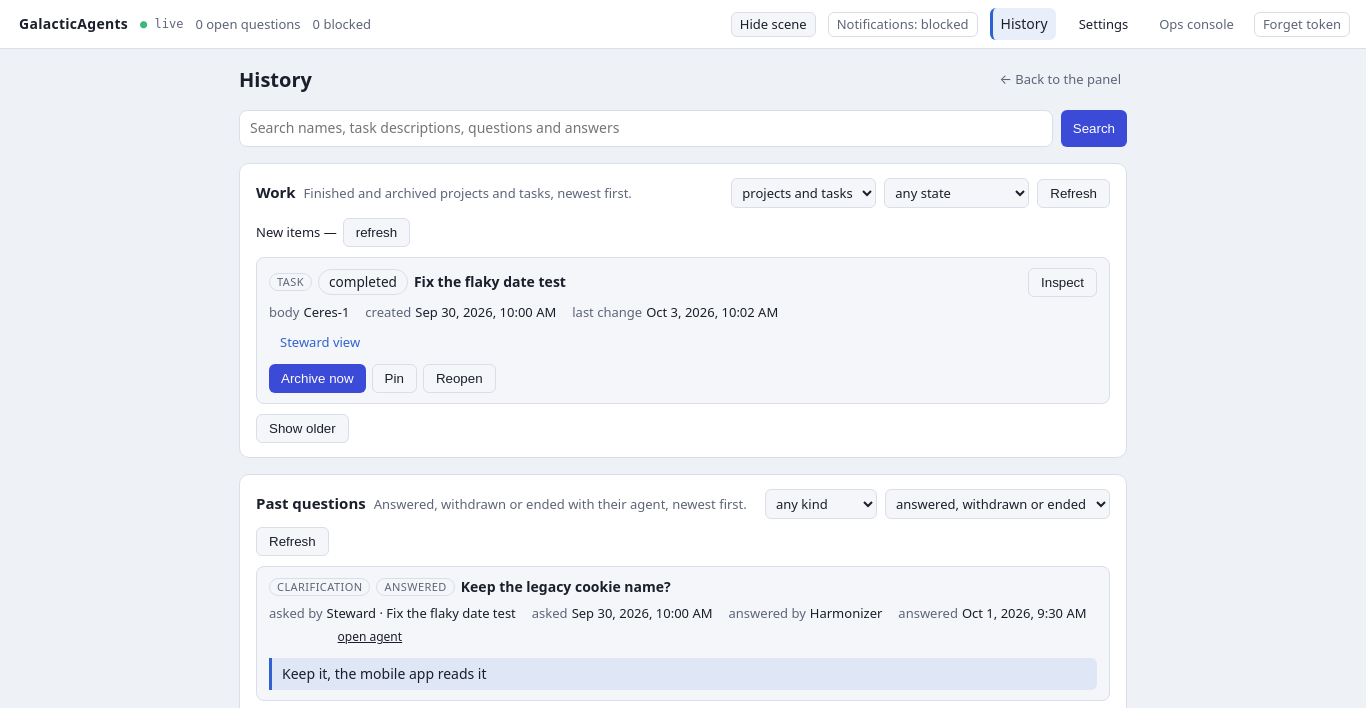
Scenario: history view (P25-10) › offers a refresh when work finishes, and keeps the rows on screen while it reads
Check: the message shows "New items", box [256, 223, 337, 241]
What coordinates should you click on to do the following:
click the button "refresh"
I would click on:
 (376, 232)
Its box is [343, 218, 410, 247].
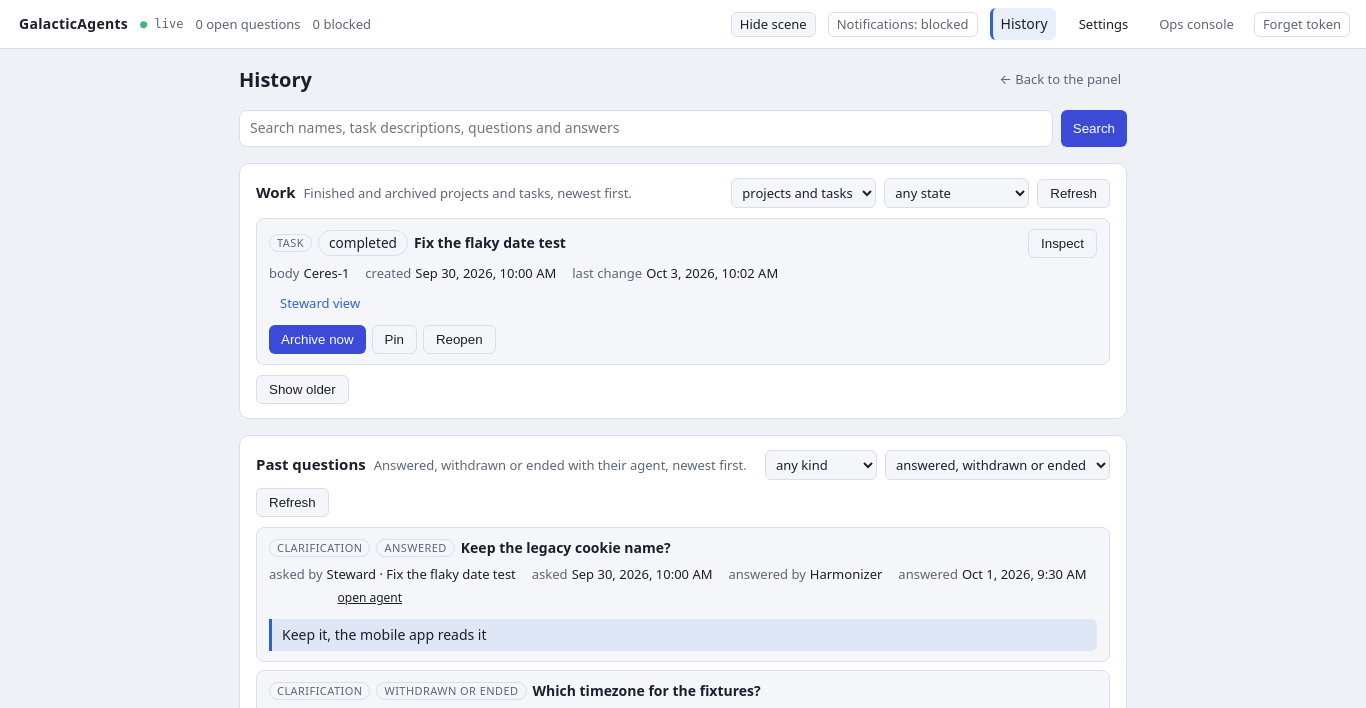
Check: the list item "Fix the flaky date test" is shown, box [256, 218, 1110, 365]
Check: the message "New items — refresh" is gone
